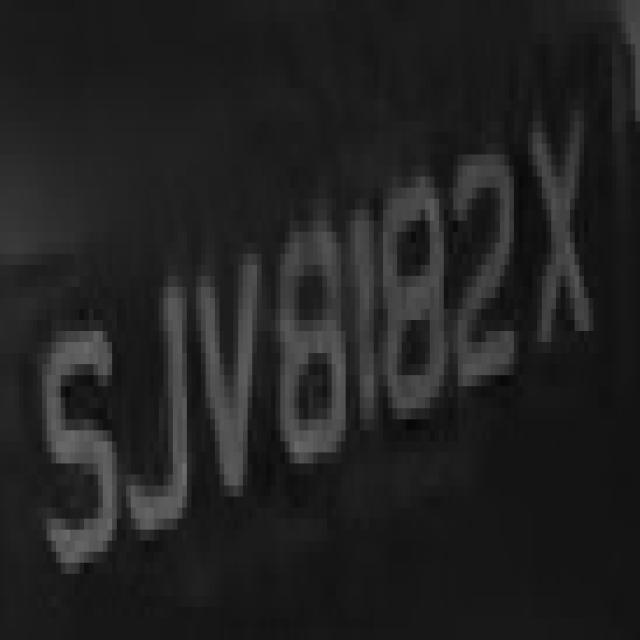1: (332, 165, 392, 486)
2: (439, 100, 519, 463)
8: (257, 165, 346, 486), (379, 121, 453, 464)
J: (117, 210, 201, 584)
S: (23, 265, 131, 618)
V: (187, 187, 271, 596)
X: (514, 55, 607, 408)
